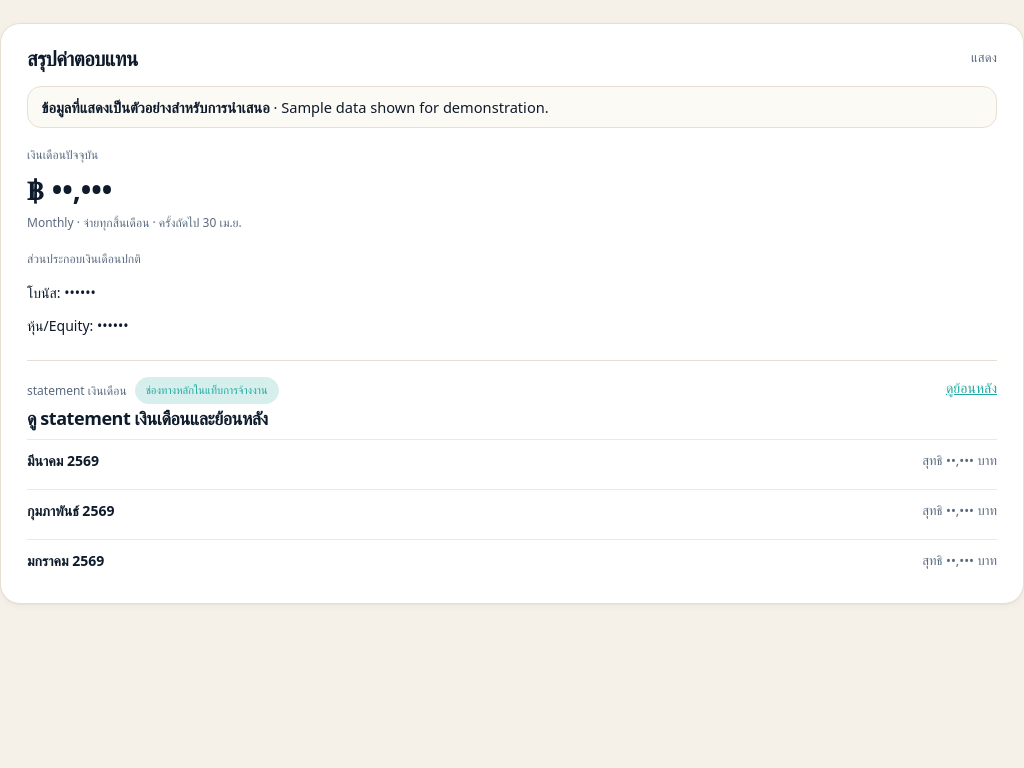
Test case: hr#83 BRD #170 — CompensationSummary › AC-3 (toggle) — clicking reveal again re-masks salary and changes aria-label to "ซ่อนเงินเดือน"
Click the button with aria-label "แสดงเงินเดือน" at (984, 58), box x1=971 y1=48 x2=997 y2=67
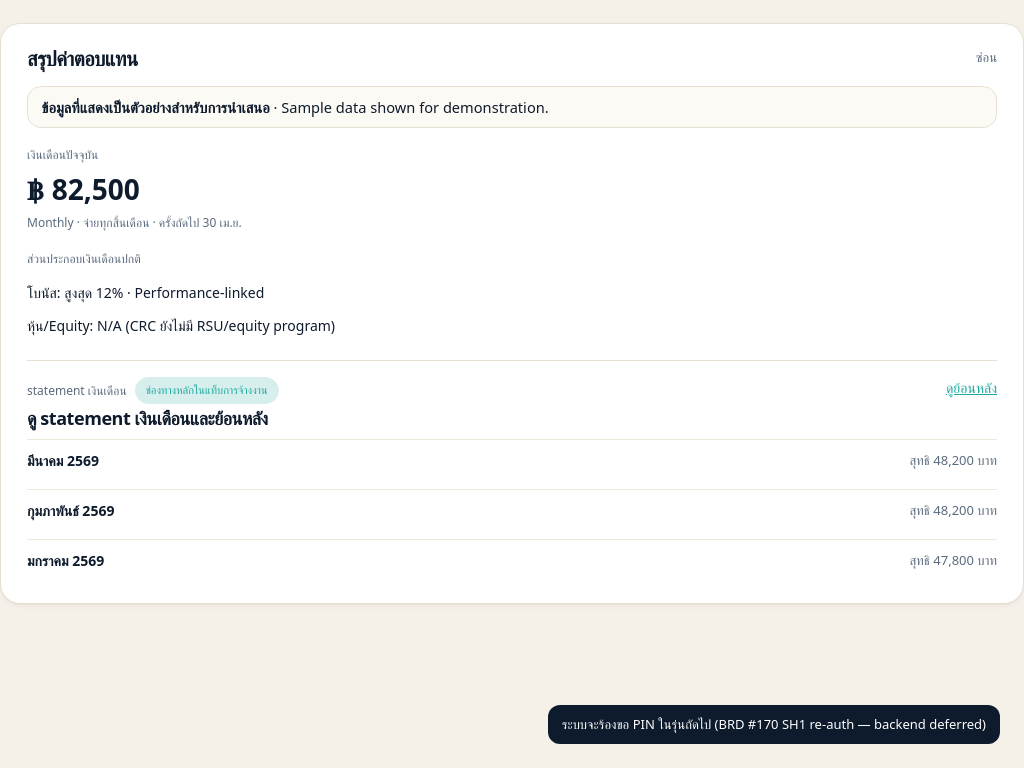
Result: the element with test id "comp-base" shows "82,500" at x1=27 y1=170 x2=140 y2=208
Click the button with aria-label "ซ่อนเงินเดือน" at (986, 58), box x1=976 y1=48 x2=997 y2=67
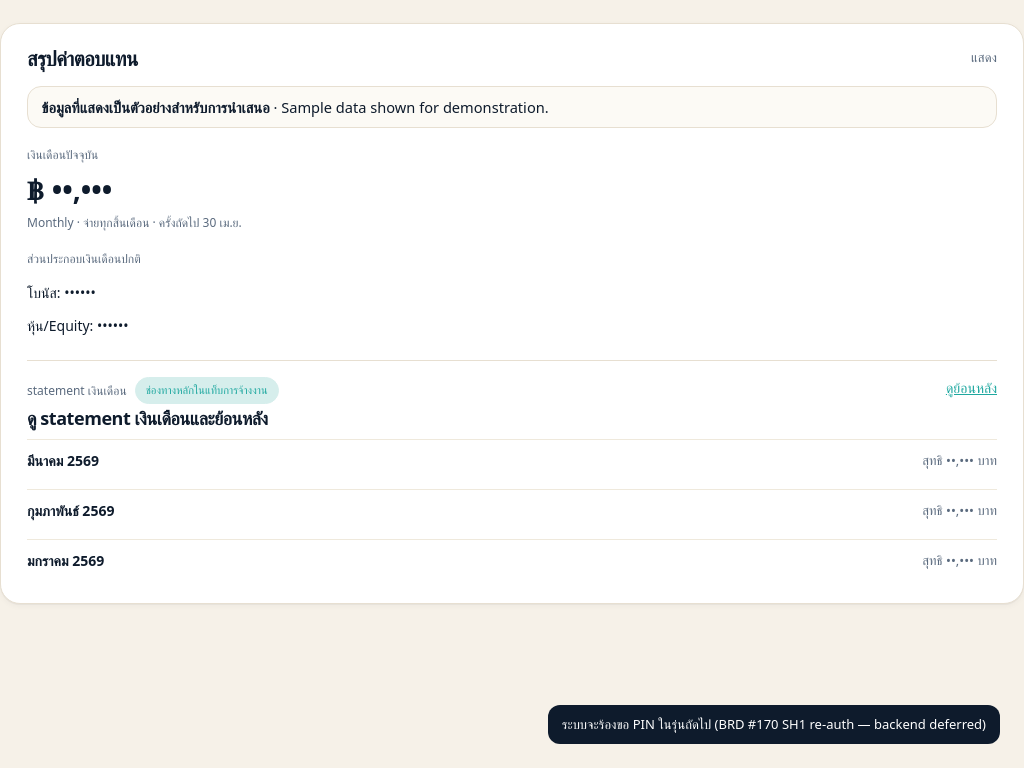
Result: the element with test id "comp-base" shows "฿ ••,•••" at x1=27 y1=170 x2=112 y2=208
Result: the text with test id "comp-base" no longer shows "82,500"
